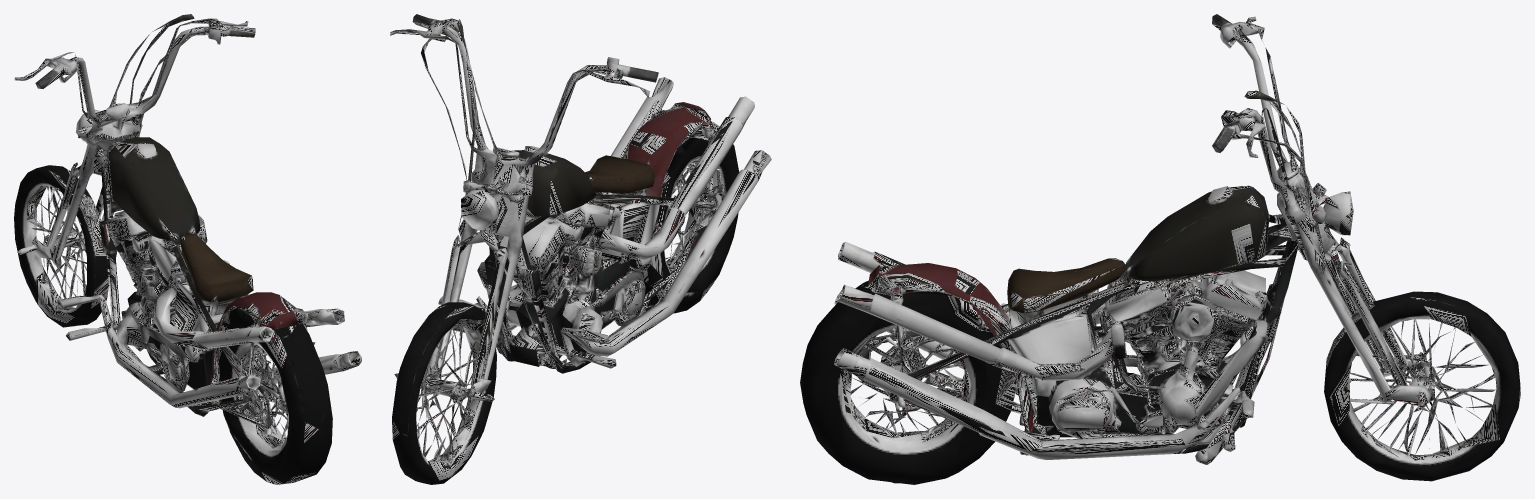
File: moto-chopper.glb
The picture shows the model from 3 angles, left to right: view 1: azimuth 30°, elevation 25°; view 2: azimuth 150°, elevation 25°; view 3: azimuth 270°, elevation 25°; orthographic projection. The views are drawn at different scales.
Parts seen in each view (by area): view 1: corpo, rodaT, rodaD; view 2: corpo, rodaD, rodaT; view 3: corpo, rodaT, rodaD.
Boxes of the visible parts, x1,y1,x2,y2 form: corpo: (14,14,361,417); rodaT: (216,322,332,484); rodaD: (14,165,108,327); corpo: (390,14,771,403); rodaD: (392,245,496,484); rodaT: (650,123,738,313); corpo: (829,14,1431,464); rodaT: (800,292,1024,484); rodaD: (1324,257,1520,481).
Size of the model in its own units: 1.12 by 1.59 by 2.47.
1 material, 1 textured.
